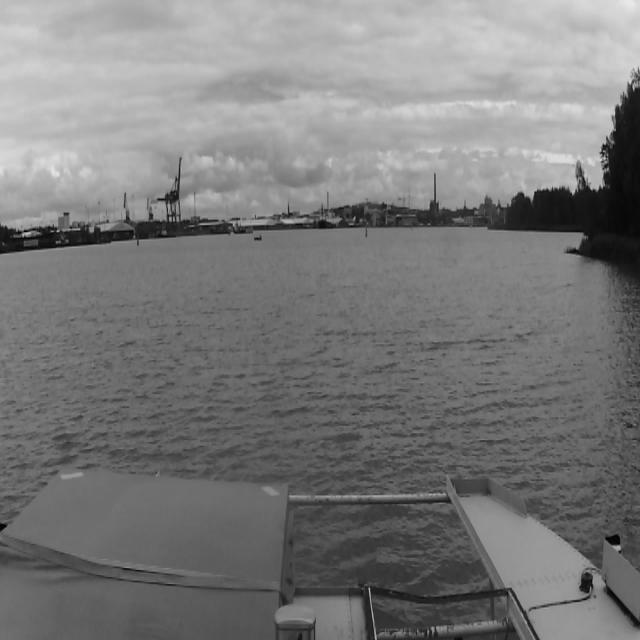buoy: (136, 234, 140, 245), (365, 226, 367, 236)
ship: (319, 204, 327, 228), (254, 235, 262, 241)
